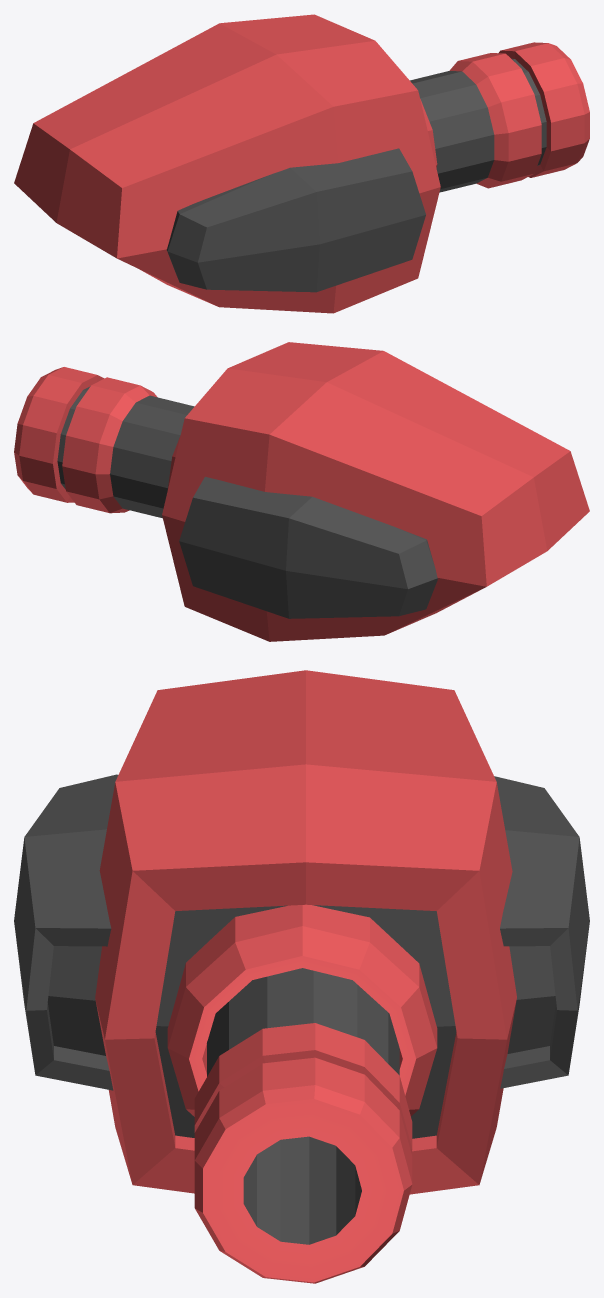
The model's file is CannonBlock.fbx.
The picture shows the model from 3 angles, top to bottom: view 1: azimuth 30°, elevation 25°; view 2: azimuth 150°, elevation 25°; view 3: azimuth 270°, elevation 25°; orthographic projection. The views are drawn at different scales.
Visible parts, largest first — view 1: Cannon; view 2: Cannon; view 3: Cannon.
Boxes of the visible parts, x1,y1,x2,y2 form: Cannon: [14, 14, 589, 313]; Cannon: [14, 342, 589, 641]; Cannon: [14, 670, 589, 1283].
Size of the model in its own units: 720 by 312 by 427.
